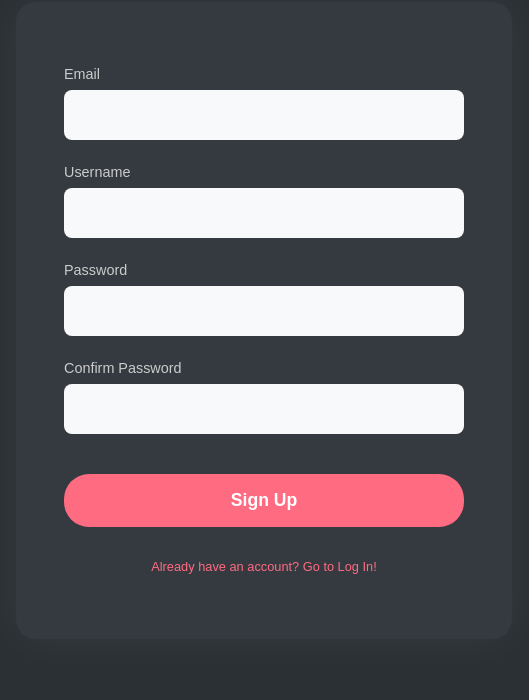
Test: authentication pages › shows an error when registration passwords do not match
Type "new@test.com" into the field labelled "Email".
click(264, 114); type("new@test.com")  # box left=64, top=90, right=464, bottom=140
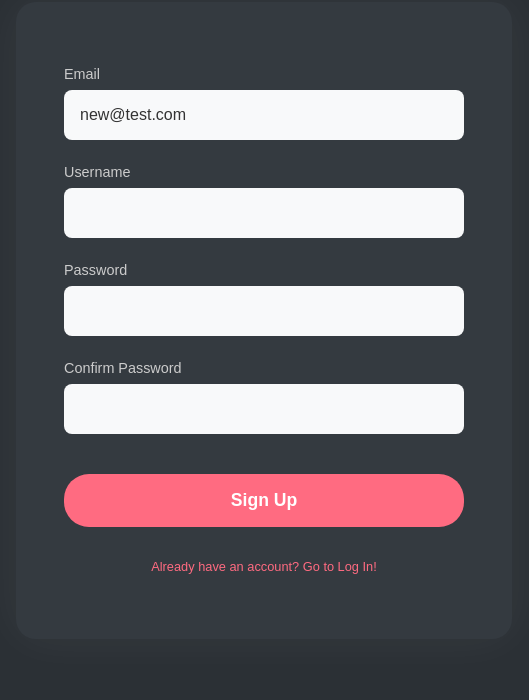
Type "newbie" into the field labelled "Username".
click(264, 212); type("newbie")  # box left=64, top=188, right=464, bottom=238
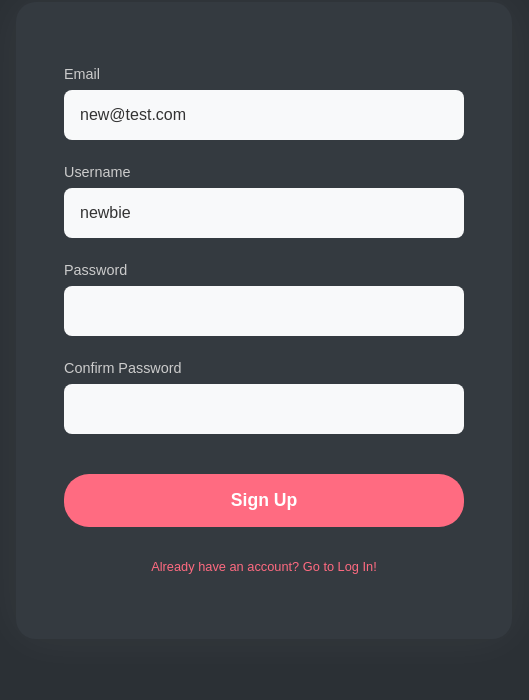
Type "secret123" into the password field labelled "Password".
click(264, 310); type("secret123")  # box left=64, top=286, right=464, bottom=336
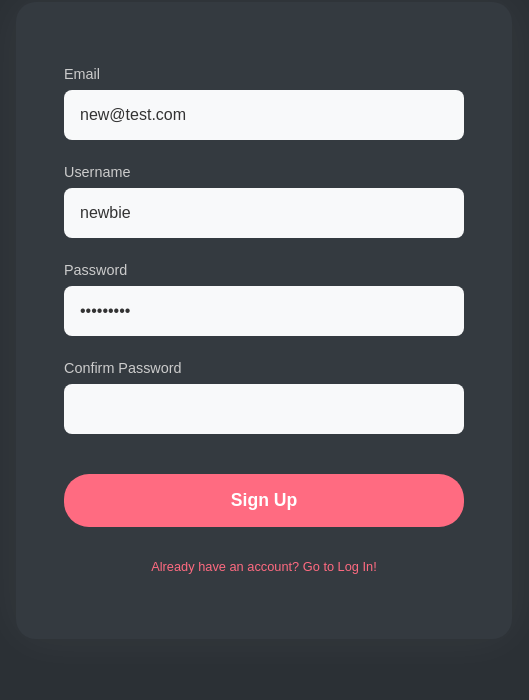
Type "different" into the password field labelled "Confirm Password".
click(264, 408); type("different")  # box left=64, top=384, right=464, bottom=434
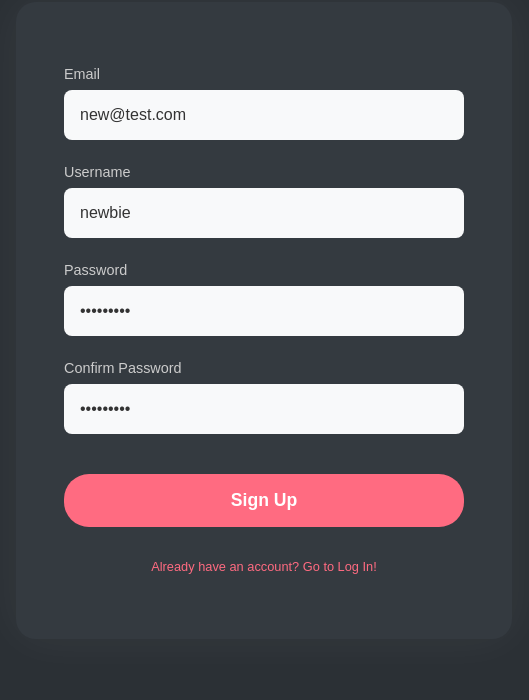
Click the button "Sign Up".
click(264, 500)  # box left=64, top=474, right=464, bottom=526
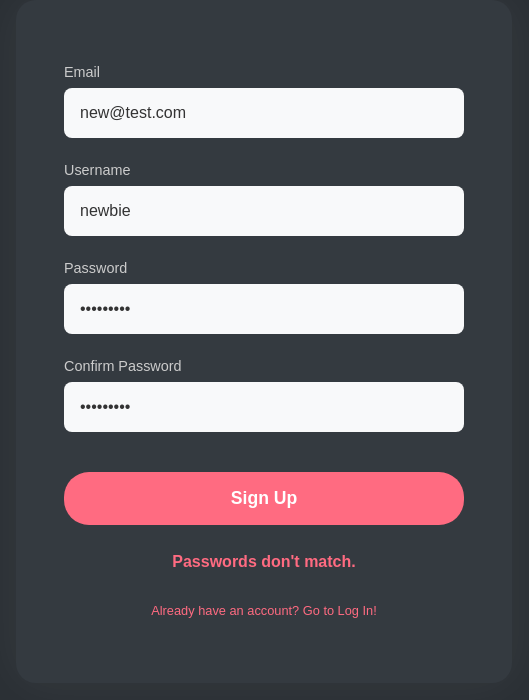
Check: the text "Passwords don't match." is shown, box left=172, top=553, right=356, bottom=570
